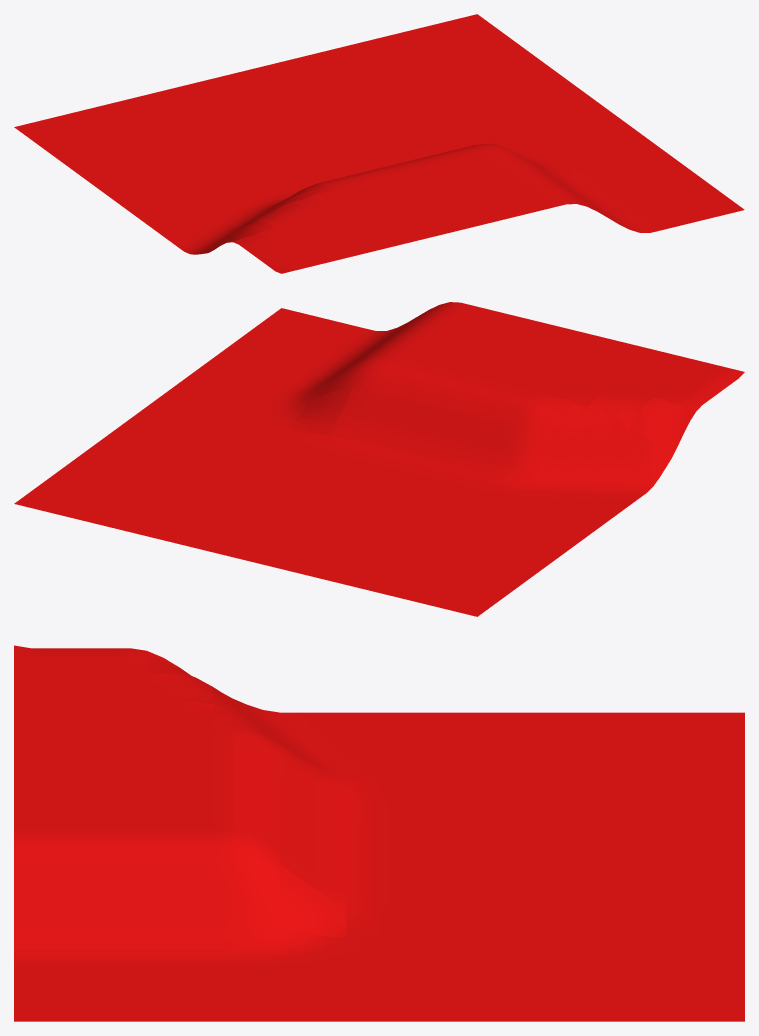
File: CHUNK_1_-1.glb
The picture shows the model from 3 angles, top to bottom: view 1: azimuth 30°, elevation 25°; view 2: azimuth 150°, elevation 25°; view 3: azimuth 270°, elevation 25°; orthographic projection. The views are drawn at different scales.
Parts seen in each view (by area): view 1: Chunk_1_-1; view 2: Chunk_1_-1; view 3: Chunk_1_-1.
Boxes of the visible parts, bbox=[...] form: Chunk_1_-1: bbox=[14, 14, 744, 273]; Chunk_1_-1: bbox=[14, 302, 744, 616]; Chunk_1_-1: bbox=[14, 645, 744, 1021].
Size of the model in its own units: 100 by 10.13 by 100.
